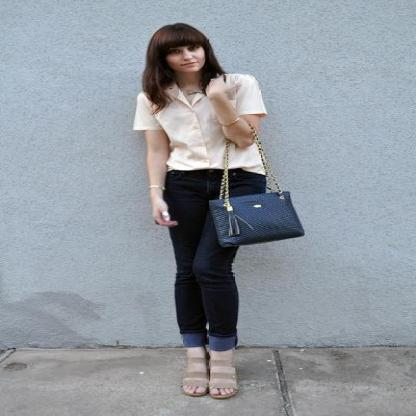bag: (205, 190, 304, 250)
pants: (162, 168, 270, 351)
shirt: (133, 74, 266, 174)
shoe: (180, 347, 243, 400)
